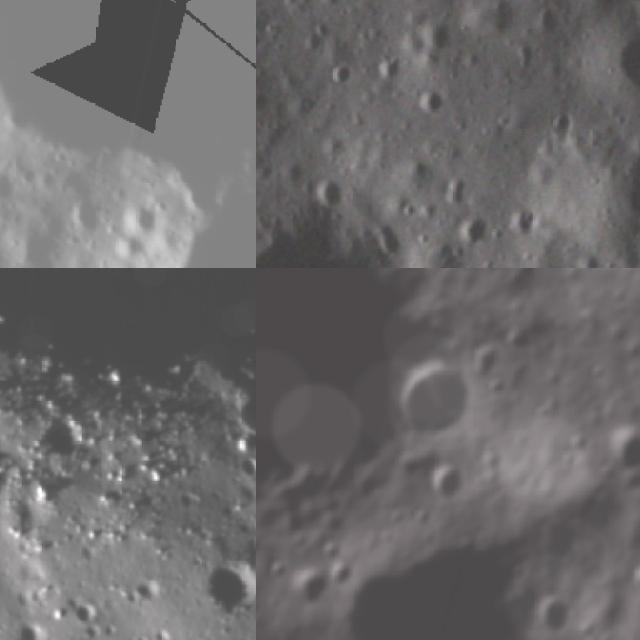crater: (0, 0, 256, 180), (20, 102, 256, 268), (377, 343, 488, 444), (188, 556, 256, 625), (601, 3, 640, 108), (525, 592, 586, 640), (116, 189, 169, 244), (43, 418, 103, 466), (410, 9, 464, 62), (447, 200, 501, 248), (282, 564, 331, 612), (599, 422, 640, 478), (425, 453, 469, 505), (61, 196, 108, 244), (309, 166, 357, 212), (407, 78, 453, 124), (107, 224, 154, 268), (322, 51, 368, 95), (0, 159, 36, 213), (545, 102, 586, 147), (233, 391, 256, 447), (308, 536, 344, 568), (329, 562, 365, 590), (481, 374, 509, 402), (587, 363, 614, 389), (260, 555, 287, 578), (532, 398, 552, 420), (574, 621, 597, 640), (554, 454, 573, 474), (632, 562, 640, 593)
